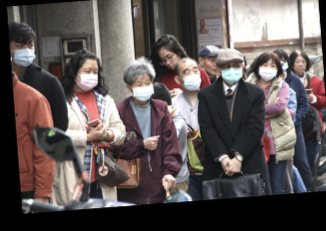with_mask: (11, 39, 36, 69), (76, 65, 99, 93), (130, 77, 154, 103), (181, 64, 201, 92), (220, 62, 243, 84), (257, 61, 278, 82), (278, 57, 289, 73)
without_mask: (157, 51, 179, 71), (290, 56, 308, 75), (205, 54, 218, 77)
